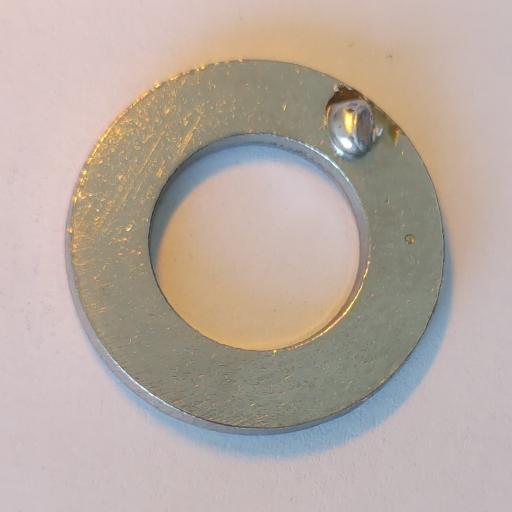excess_material: (328, 100, 384, 162)
